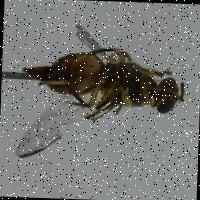Oriental-fruit-fly: (19, 20, 200, 158)
